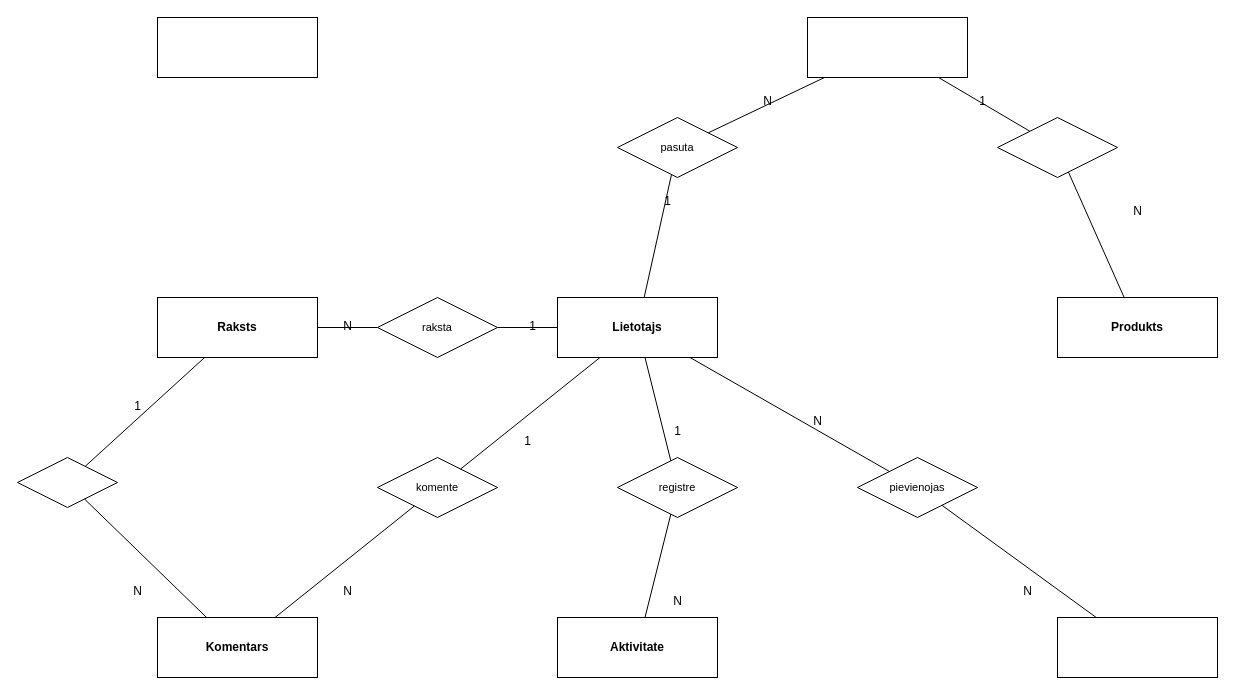
Some shapes in this 1235 by 695 pixel diagram are drawn without their labels. Each missing label, with the centre of its shape:
"Izaicinajums" goes at [1137,647].
"Izglitibas raksts" goes at [237,47].
"par" goes at [67,482].
"Pasutijums" goes at [887,47].
"satur" goes at [1057,147].
